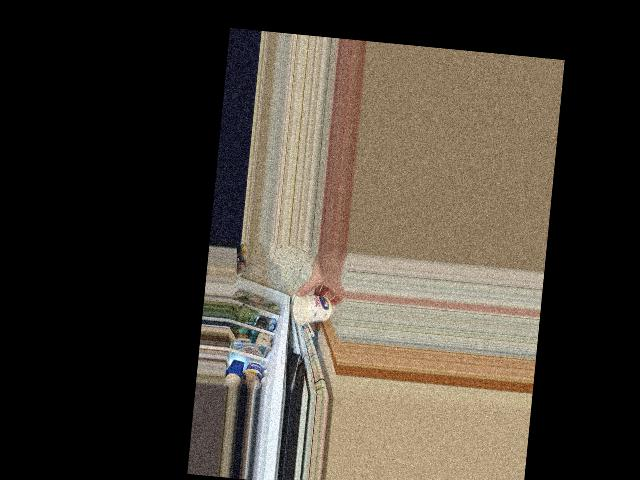cotage: (290, 291, 331, 326)
